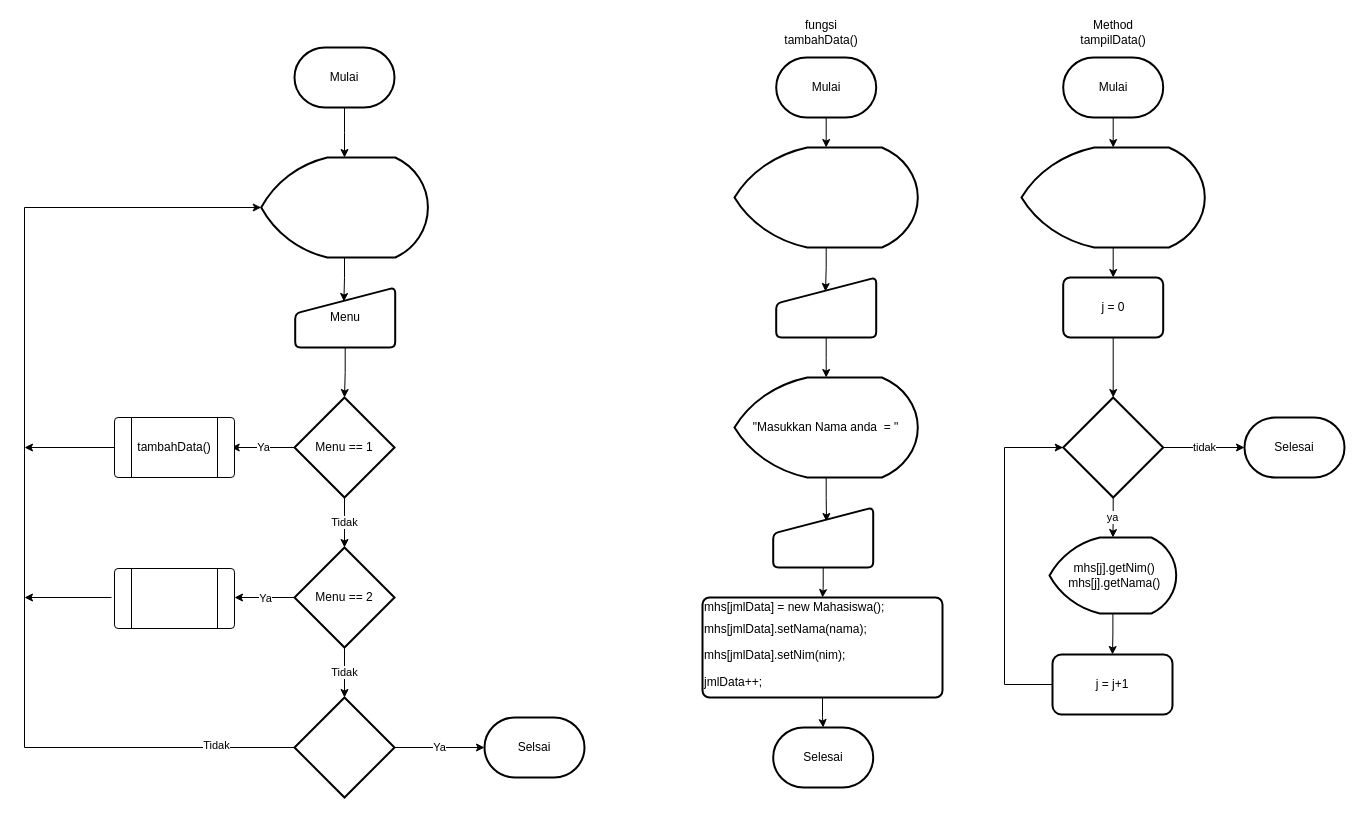
Some shapes in this 1363 by 815 pixel diagram are drawn without their labels. Here are the shapes that lost their labels. From the top down, the box of each, then its label:
(260, 156, 428, 258): "Menu Siakad 1. Tambah data 2. Tampil Data 3. Keluar Pilih Menu = "
(733, 146, 918, 248): "Silahkan tambahkan data Masukkan NIM anda = "
(1020, 146, 1205, 248): "Berikut data anda NIM Nama"
(775, 276, 877, 338): NIM
(1062, 396, 1164, 498): j < jmlData
(772, 506, 874, 568): Nama
(114, 568, 234, 628): tampilData()
(293, 696, 395, 798): Menu == 3
